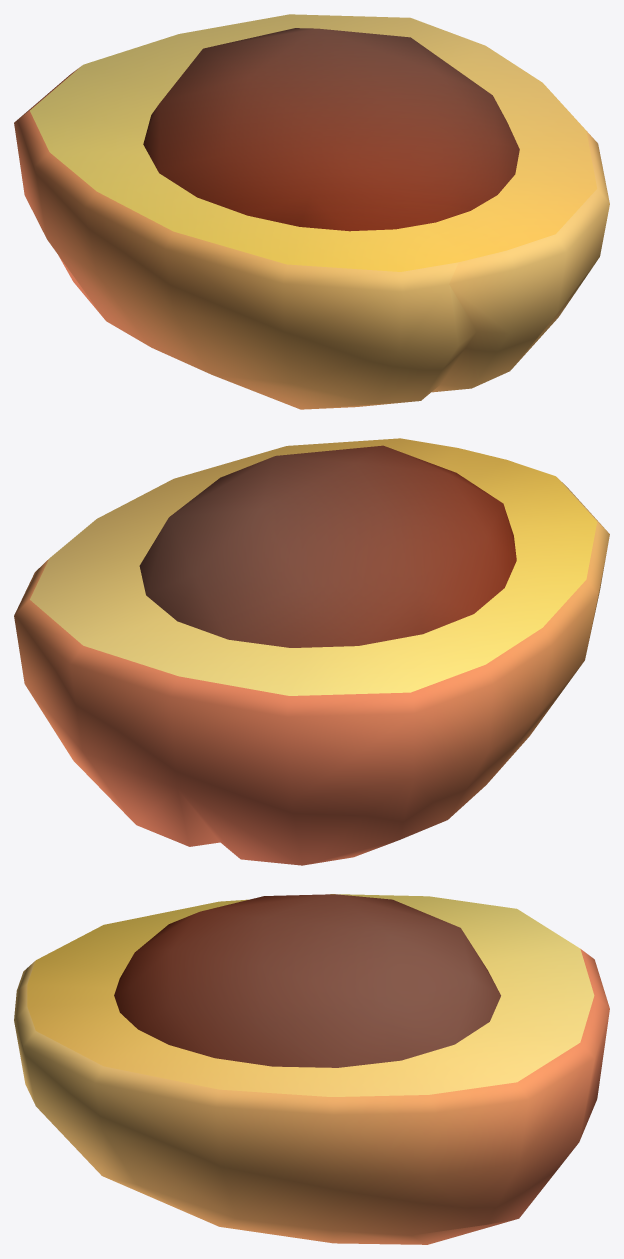
Rendered from apricot_002.fbx.
3 views of the same model, one above another, from view 1: azimuth 30°, elevation 25°; view 2: azimuth 150°, elevation 25°; view 3: azimuth 270°, elevation 25° (orthographic). The views are drawn at different scales.
Visible parts, largest first — view 1: apricot_002; view 2: apricot_002; view 3: apricot_002.
Part boxes in pixels (left/top/right/bottom): apricot_002: left=14, top=14, right=609, bottom=409; apricot_002: left=14, top=438, right=609, bottom=865; apricot_002: left=14, top=894, right=609, bottom=1244.
Size of the model in its own units: 5.16 by 6.11 by 3.37.
